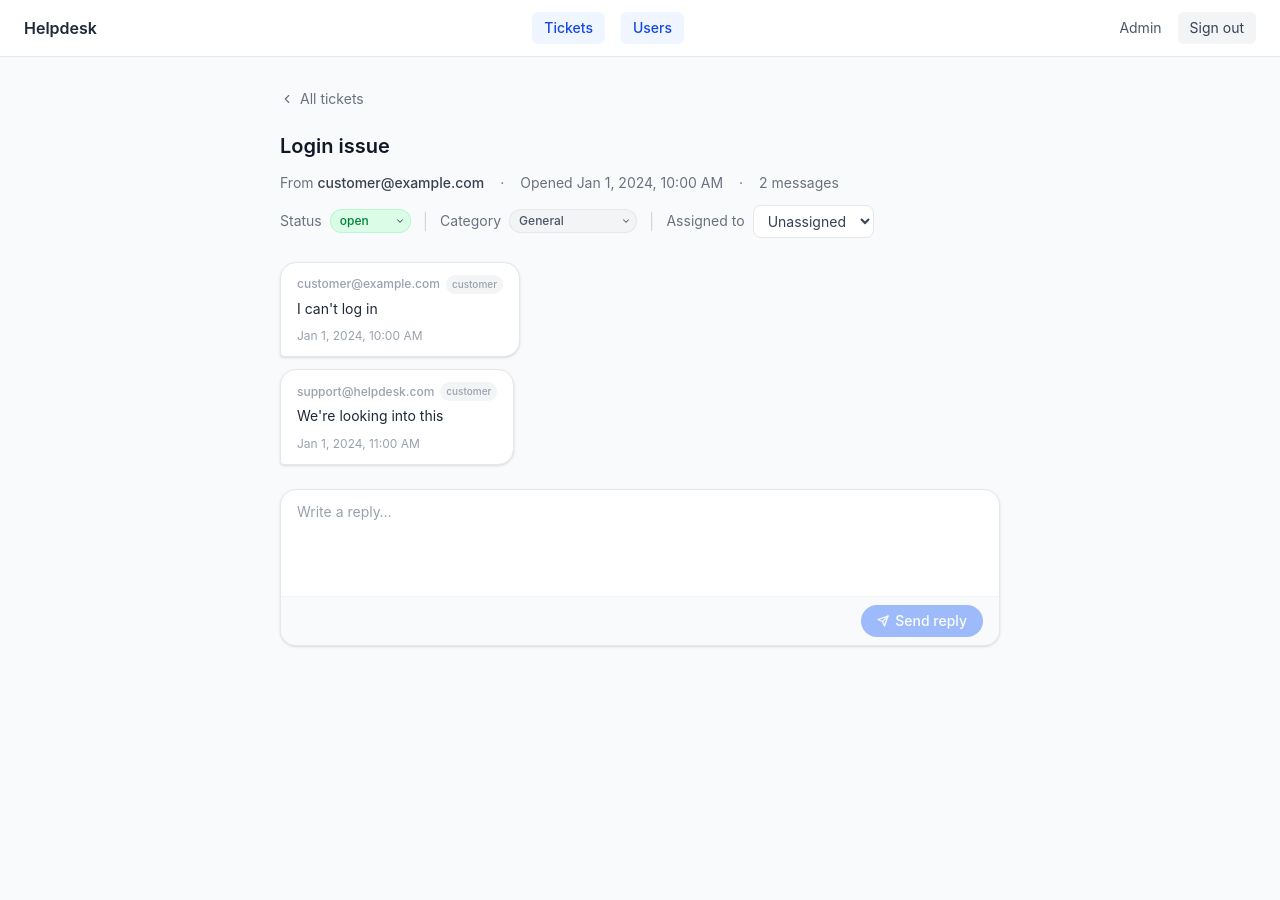
Test case: TicketDetailPage — assign mutation › disables the assign dropdown while the mutation is in flight
Expected: the heading "Login issue" is shown, [280, 134, 390, 158]
Select "Alice" in the dropdown next to "Assigned to" at coordinates (813, 221), box [753, 204, 874, 238]
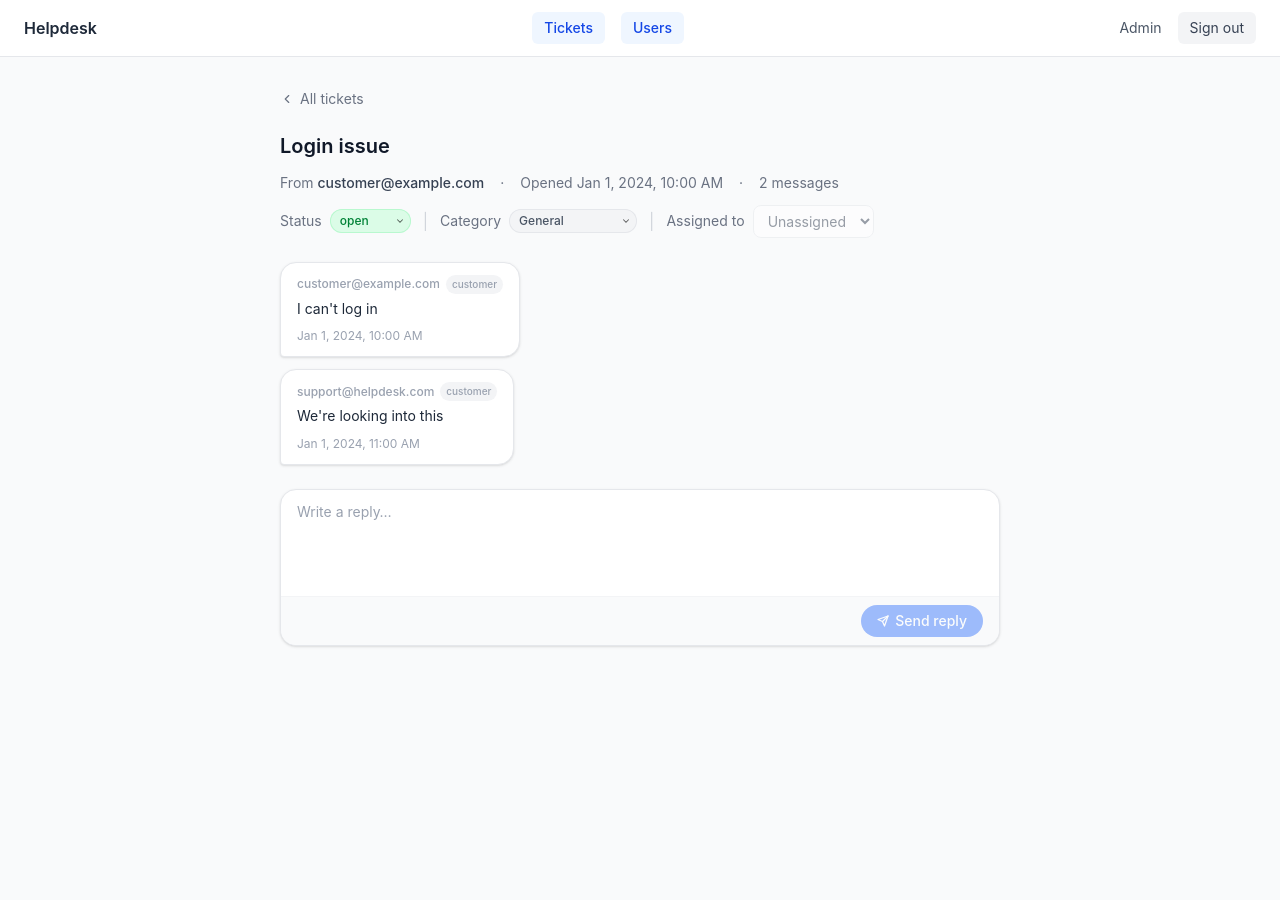
Now the dropdown next to "Assigned to" is disabled, box [753, 204, 874, 238]
